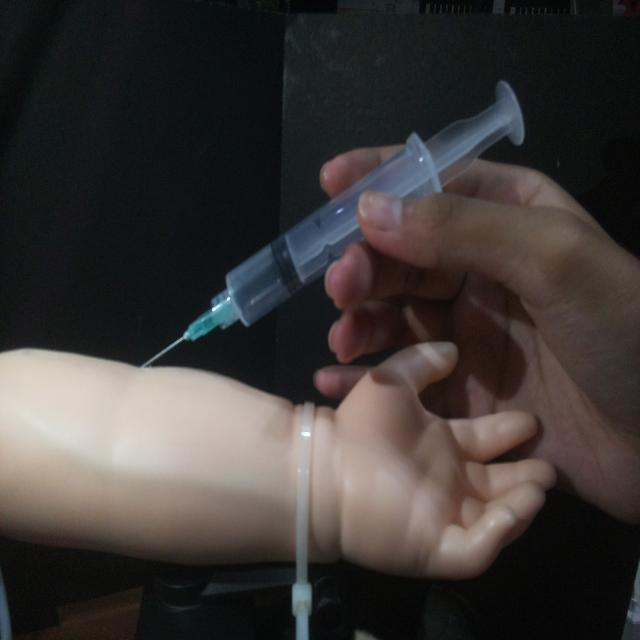28deg: (136, 75, 528, 371)
